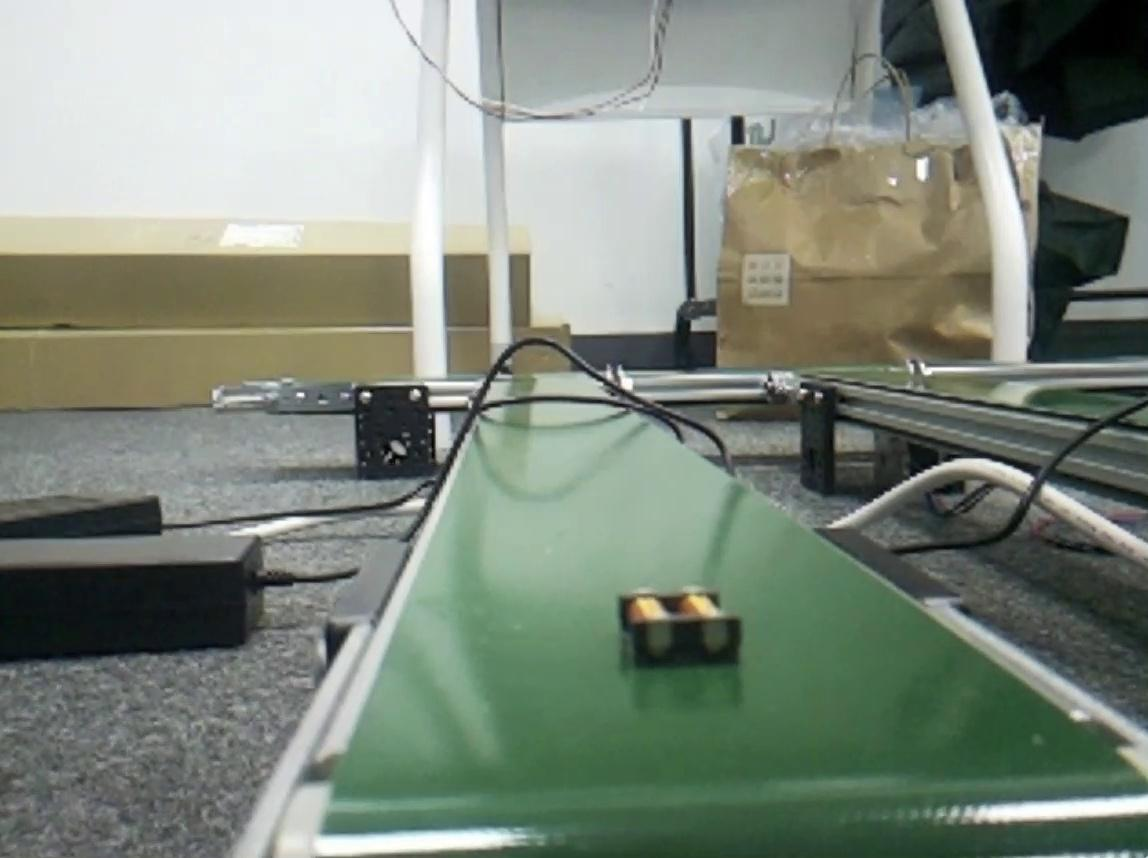inductor: (620, 587, 738, 667)
